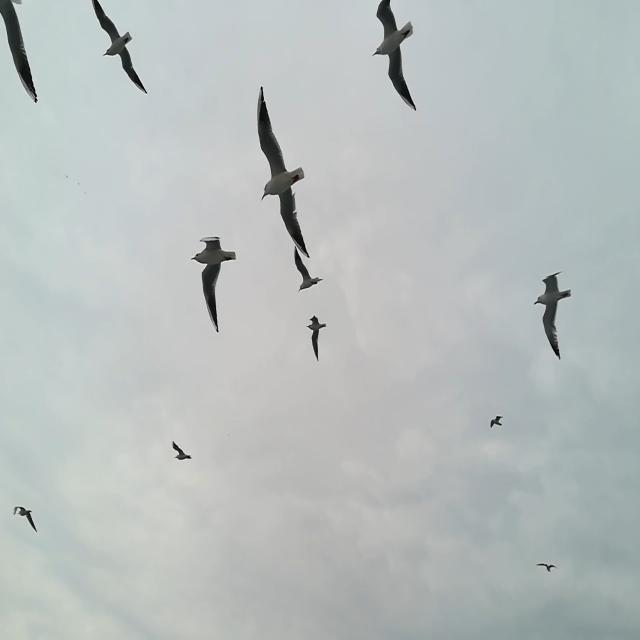bird: (255, 89, 313, 264), (92, 0, 149, 93), (371, 0, 416, 113), (192, 237, 238, 334), (0, 2, 39, 105), (532, 270, 572, 360), (292, 246, 324, 292), (306, 316, 326, 360), (11, 503, 40, 533), (171, 441, 194, 465), (536, 560, 560, 574), (491, 414, 505, 428)
